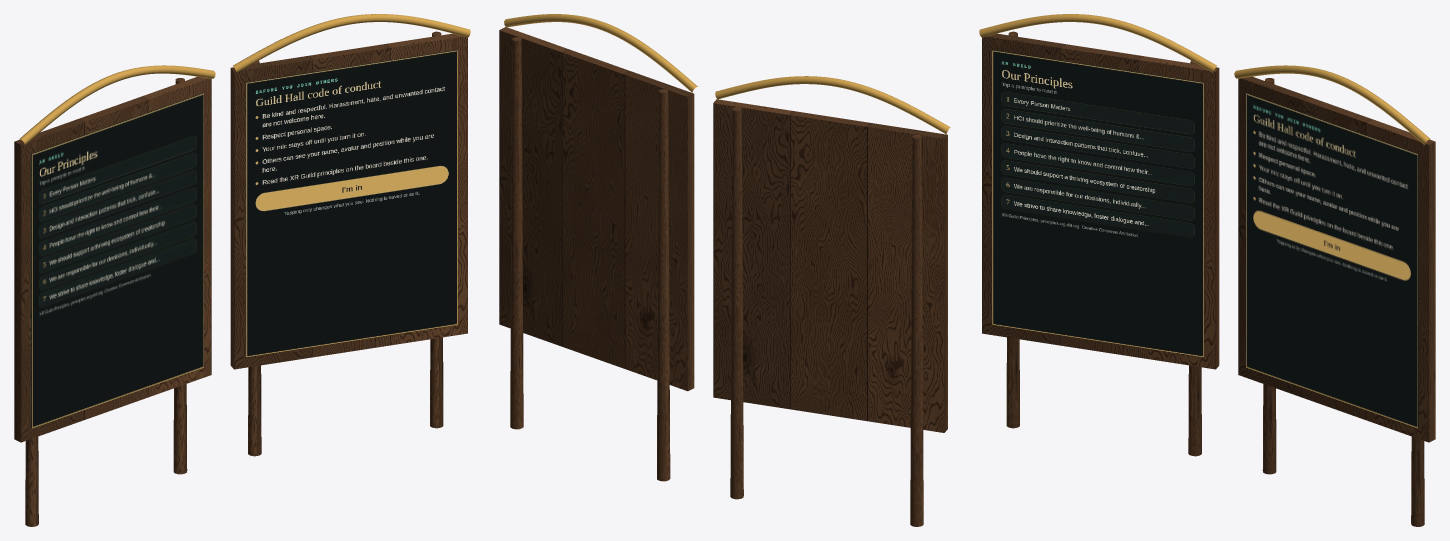
The model's file is user-model-zbgi2f.glb.
3 views of the same model, side by side, from view 1: azimuth 30°, elevation 25°; view 2: azimuth 150°, elevation 25°; view 3: azimuth 330°, elevation 25° (orthographic).
Parts seen in each view (by area): view 1: TexturePanel_1793123689010, TexturePanel_1793123686472, events-board_MeshPhysicalMaterial (×2), events-board_MeshStandardMaterial (×2); view 2: events-board_MeshPhysicalMaterial (×2), events-board_MeshStandardMaterial (×2); view 3: TexturePanel_1793123686472, TexturePanel_1793123689010, events-board_MeshPhysicalMaterial (×2), events-board_MeshStandardMaterial (×2).
Boxes of the visible parts, x1=… form: TexturePanel_1793123689010: x1=246, y1=50, x2=457, y2=356; TexturePanel_1793123686472: x1=32, y1=93, x2=203, y2=428; events-board_MeshPhysicalMaterial (×2): x1=14, y1=31, x2=467, y2=526; events-board_MeshStandardMaterial (×2): x1=19, y1=14, x2=470, y2=144; events-board_MeshPhysicalMaterial (×2): x1=499, y1=27, x2=947, y2=526; events-board_MeshStandardMaterial (×2): x1=504, y1=14, x2=950, y2=134; TexturePanel_1793123686472: x1=992, y1=50, x2=1203, y2=356; TexturePanel_1793123689010: x1=1246, y1=93, x2=1417, y2=428; events-board_MeshPhysicalMaterial (×2): x1=982, y1=31, x2=1435, y2=526; events-board_MeshStandardMaterial (×2): x1=979, y1=14, x2=1430, y2=144.
Size of the model in its own units: 3.46 by 3.16 by 0.4425.
5 materials, 4 textured.
